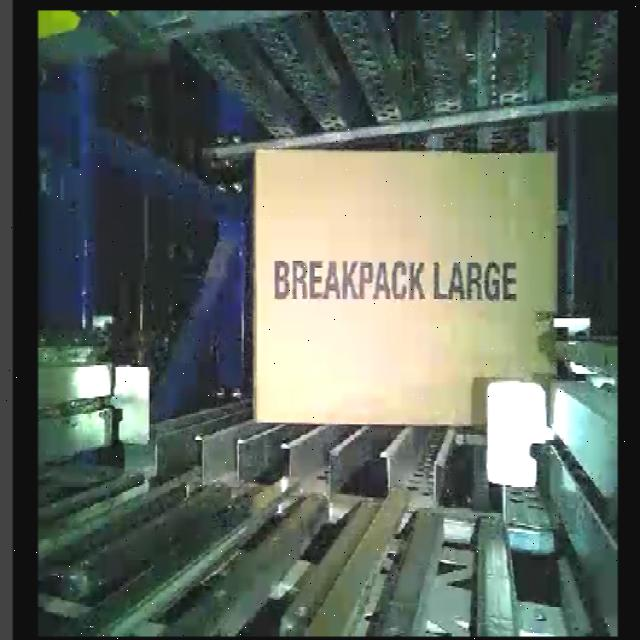box: (252, 148, 560, 426)
